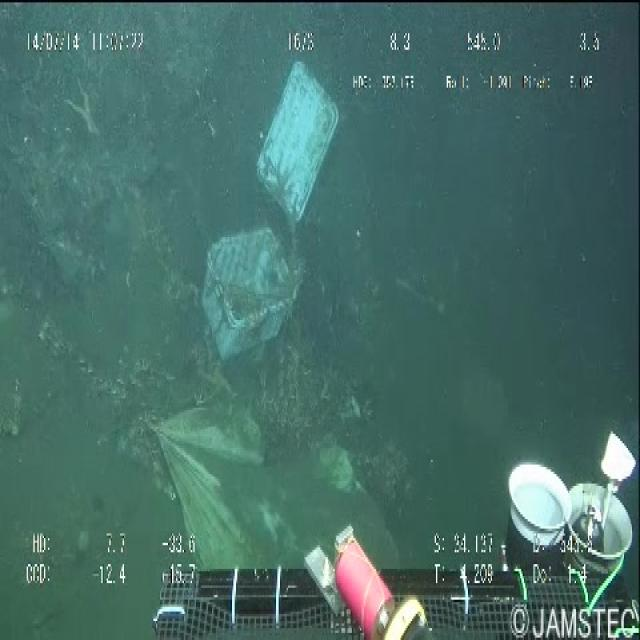plastic: (186, 47, 350, 370)
